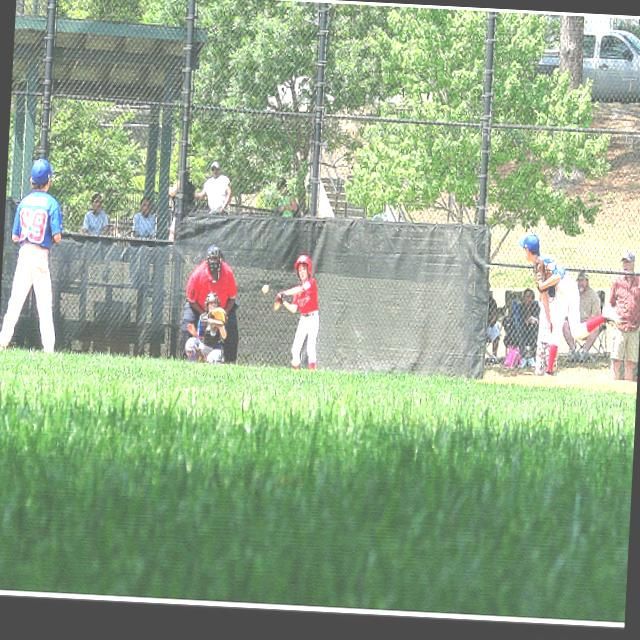Vehicle: (535, 26, 640, 105)
